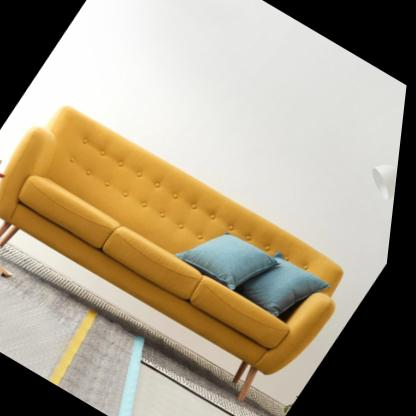Sofa: (0, 93, 381, 415)
